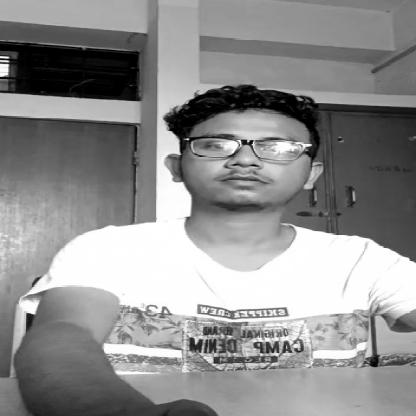Normal: (161, 104, 330, 216)
